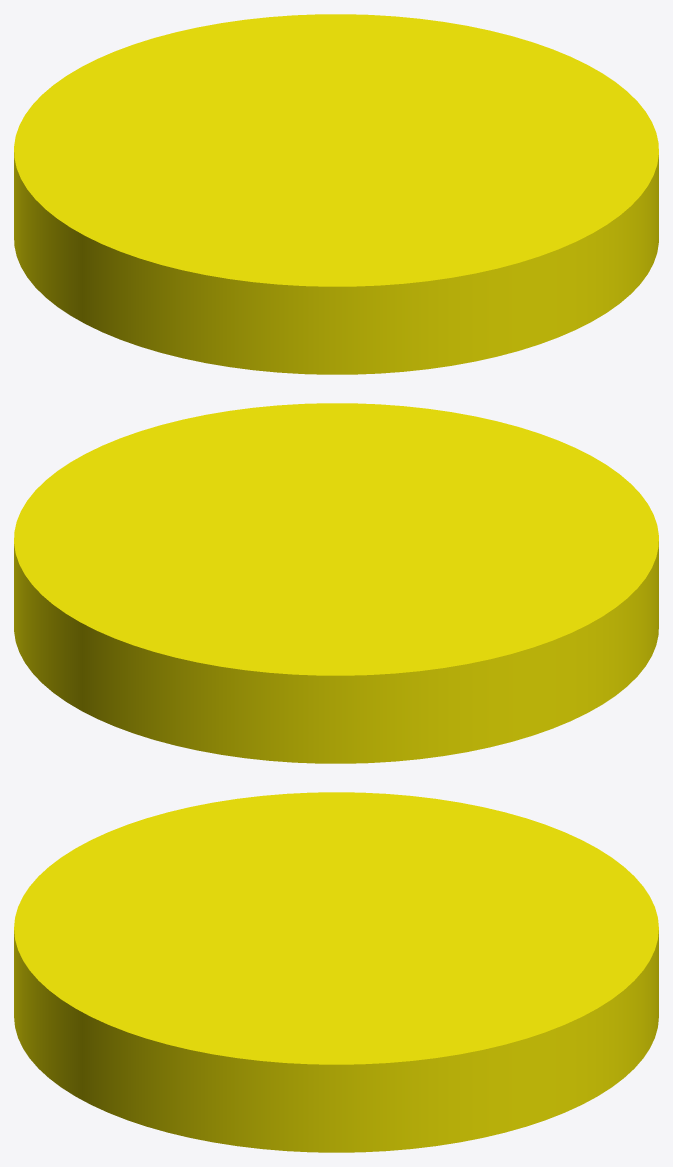
The model's file is coin.fbx.
3 renders of one model, top to bottom at view 1: azimuth 30°, elevation 25°; view 2: azimuth 150°, elevation 25°; view 3: azimuth 270°, elevation 25°, orthographic.
Visible parts, largest first — view 1: root; view 2: root; view 3: root.
Part boxes in pixels (x1,y1,x2,y2): root: [14, 14, 658, 374]; root: [14, 403, 658, 763]; root: [14, 792, 658, 1152].
Size of the model in its own units: 0.2354 by 0.0354 by 0.2354.
1 material, 1 textured.
